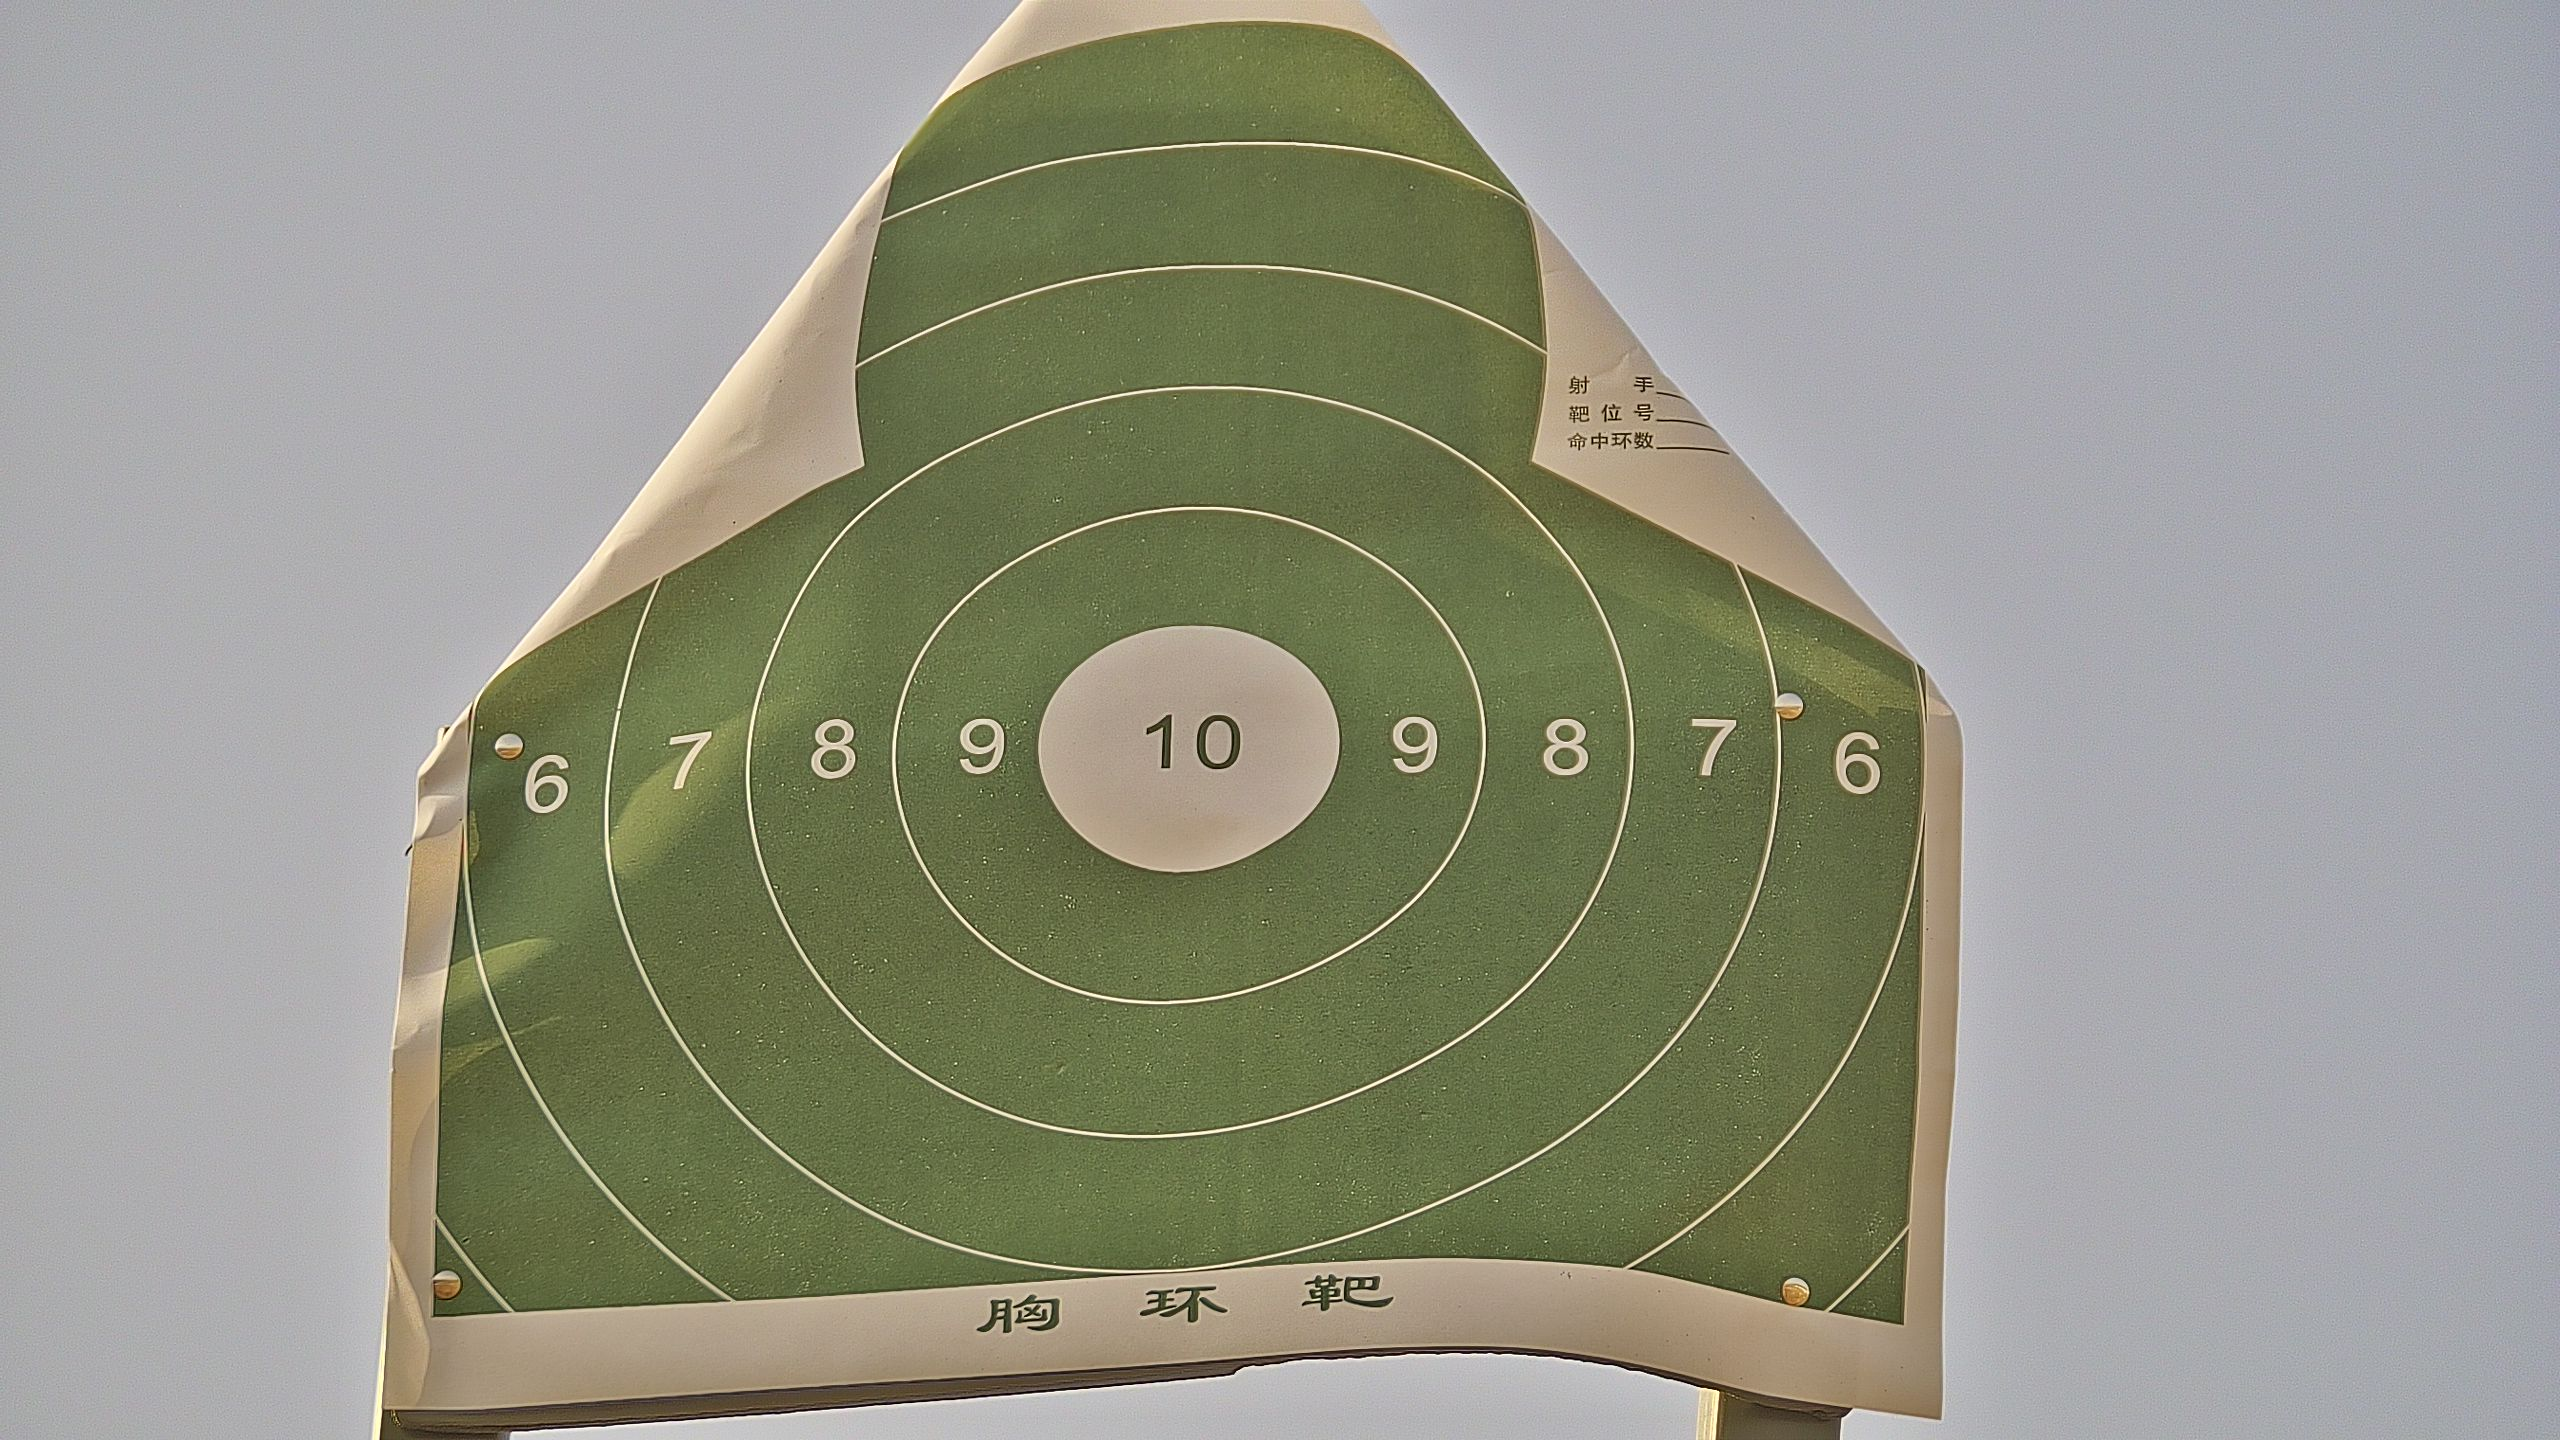kernel: (1182, 737, 1183, 744)
target: (440, 25, 1922, 1343)
ten: (1039, 622, 1347, 877)
